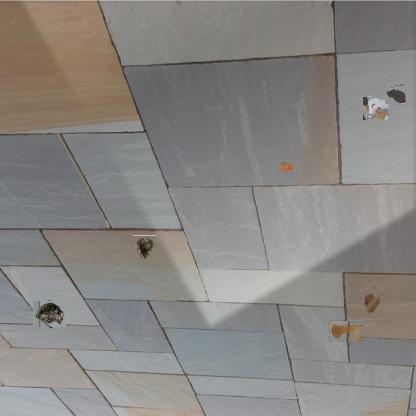dirty: (34, 299, 64, 329), (362, 96, 392, 120), (132, 235, 156, 260), (360, 290, 382, 316), (275, 159, 297, 175)
liquid: (329, 320, 363, 342), (385, 85, 405, 105)
